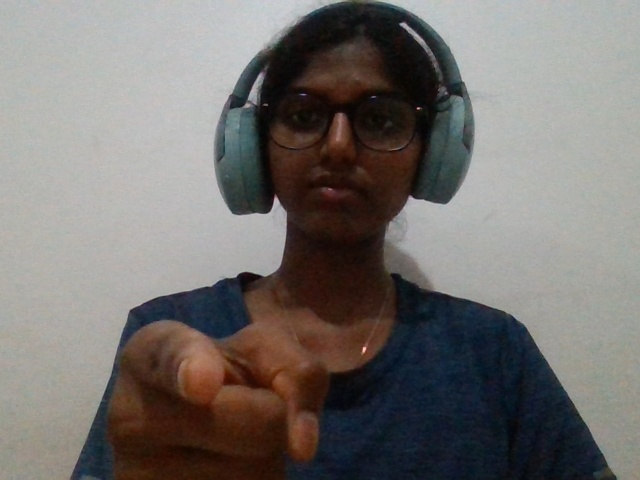You: (86, 289, 367, 480)
